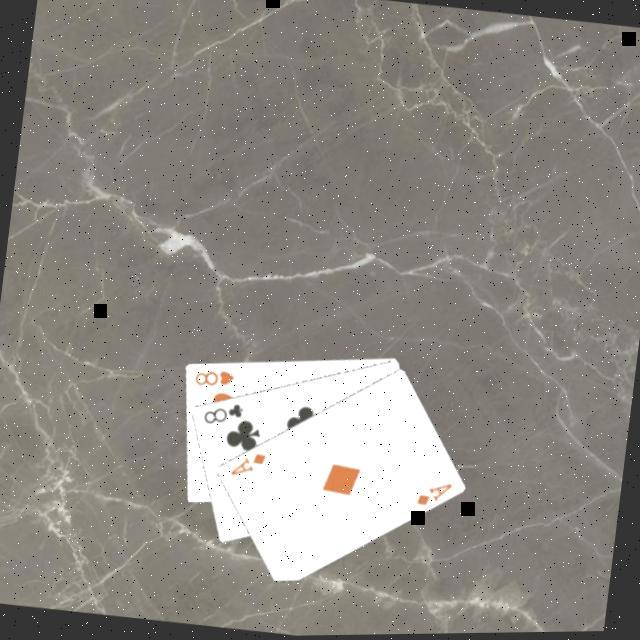8C: (200, 396, 248, 431)
8H: (192, 363, 241, 393)
AD: (228, 446, 271, 482), (414, 476, 457, 512)
